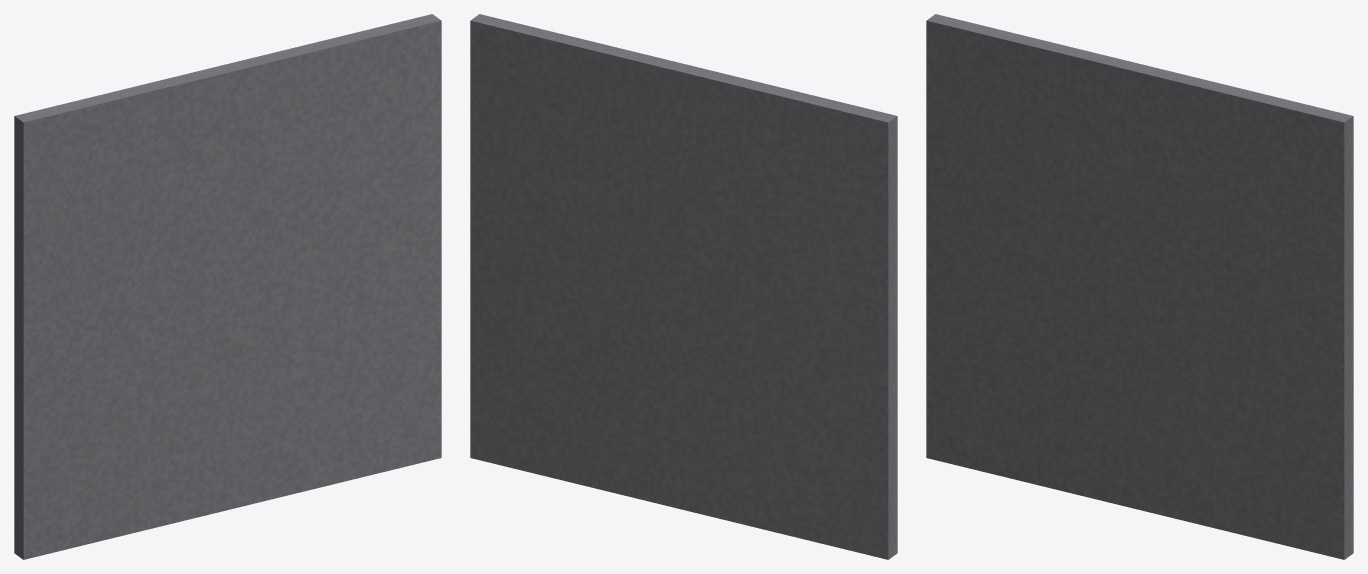
3 views of the same model, side by side, from view 1: azimuth 30°, elevation 25°; view 2: azimuth 150°, elevation 25°; view 3: azimuth 330°, elevation 25° (orthographic).
Parts seen in each view (by area): view 1: win_skylight_1u_lod0_run001; view 2: win_skylight_1u_lod0_run001; view 3: win_skylight_1u_lod0_run001.
Boxes of the visible parts, <box> form: win_skylight_1u_lod0_run001: <box>14,14,441,559</box>; win_skylight_1u_lod0_run001: <box>470,14,897,559</box>; win_skylight_1u_lod0_run001: <box>926,14,1353,559</box>.
Bounding box in the file's own units: 4 × 4 × 0.15.
1 material, 1 textured.
